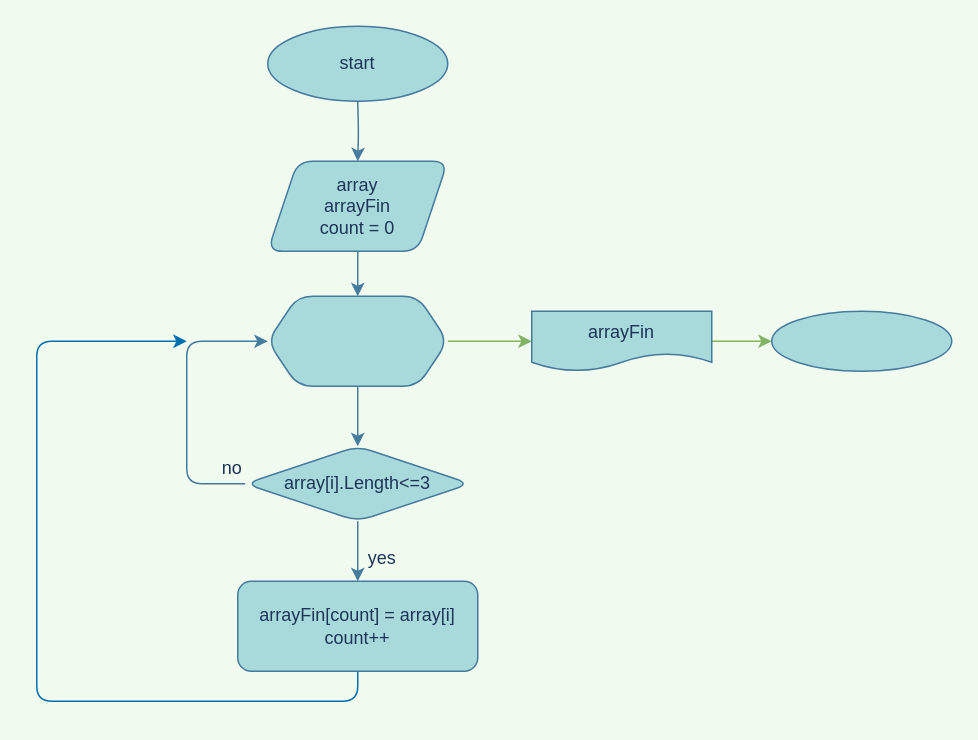
Image size: 978x740. Some labels were removed from this diagram. Each missing label, with the centre of its shape:
"finish" goes at pixel 861 340.
"i = 0 i < array.Length i++" goes at pixel 357 340.
